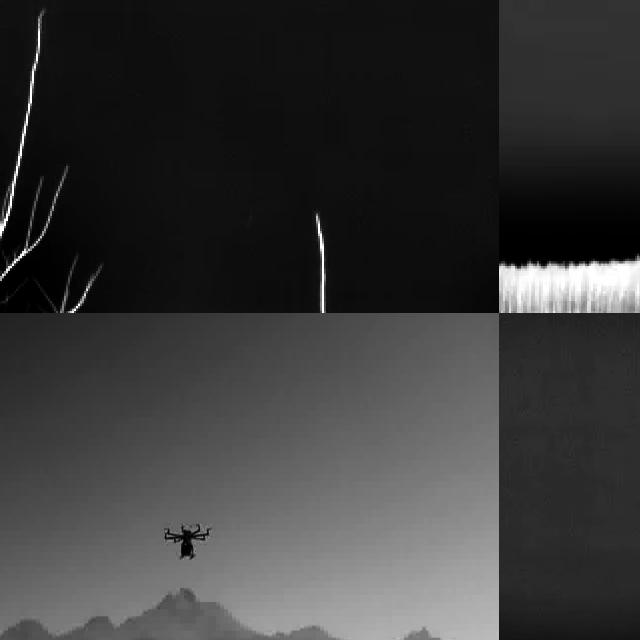0: (238, 214, 264, 238)
drone: (162, 518, 213, 567)
